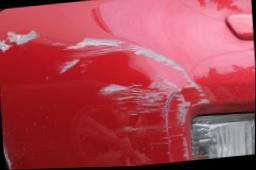Fender: (0, 0, 242, 170)
